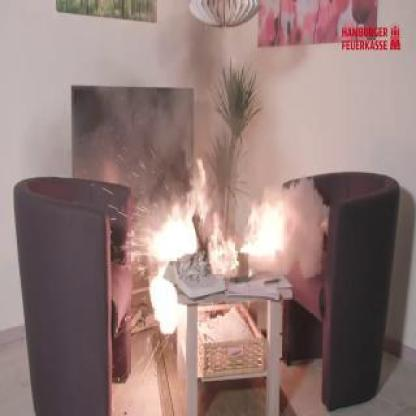Fire: (138, 187, 302, 339)
